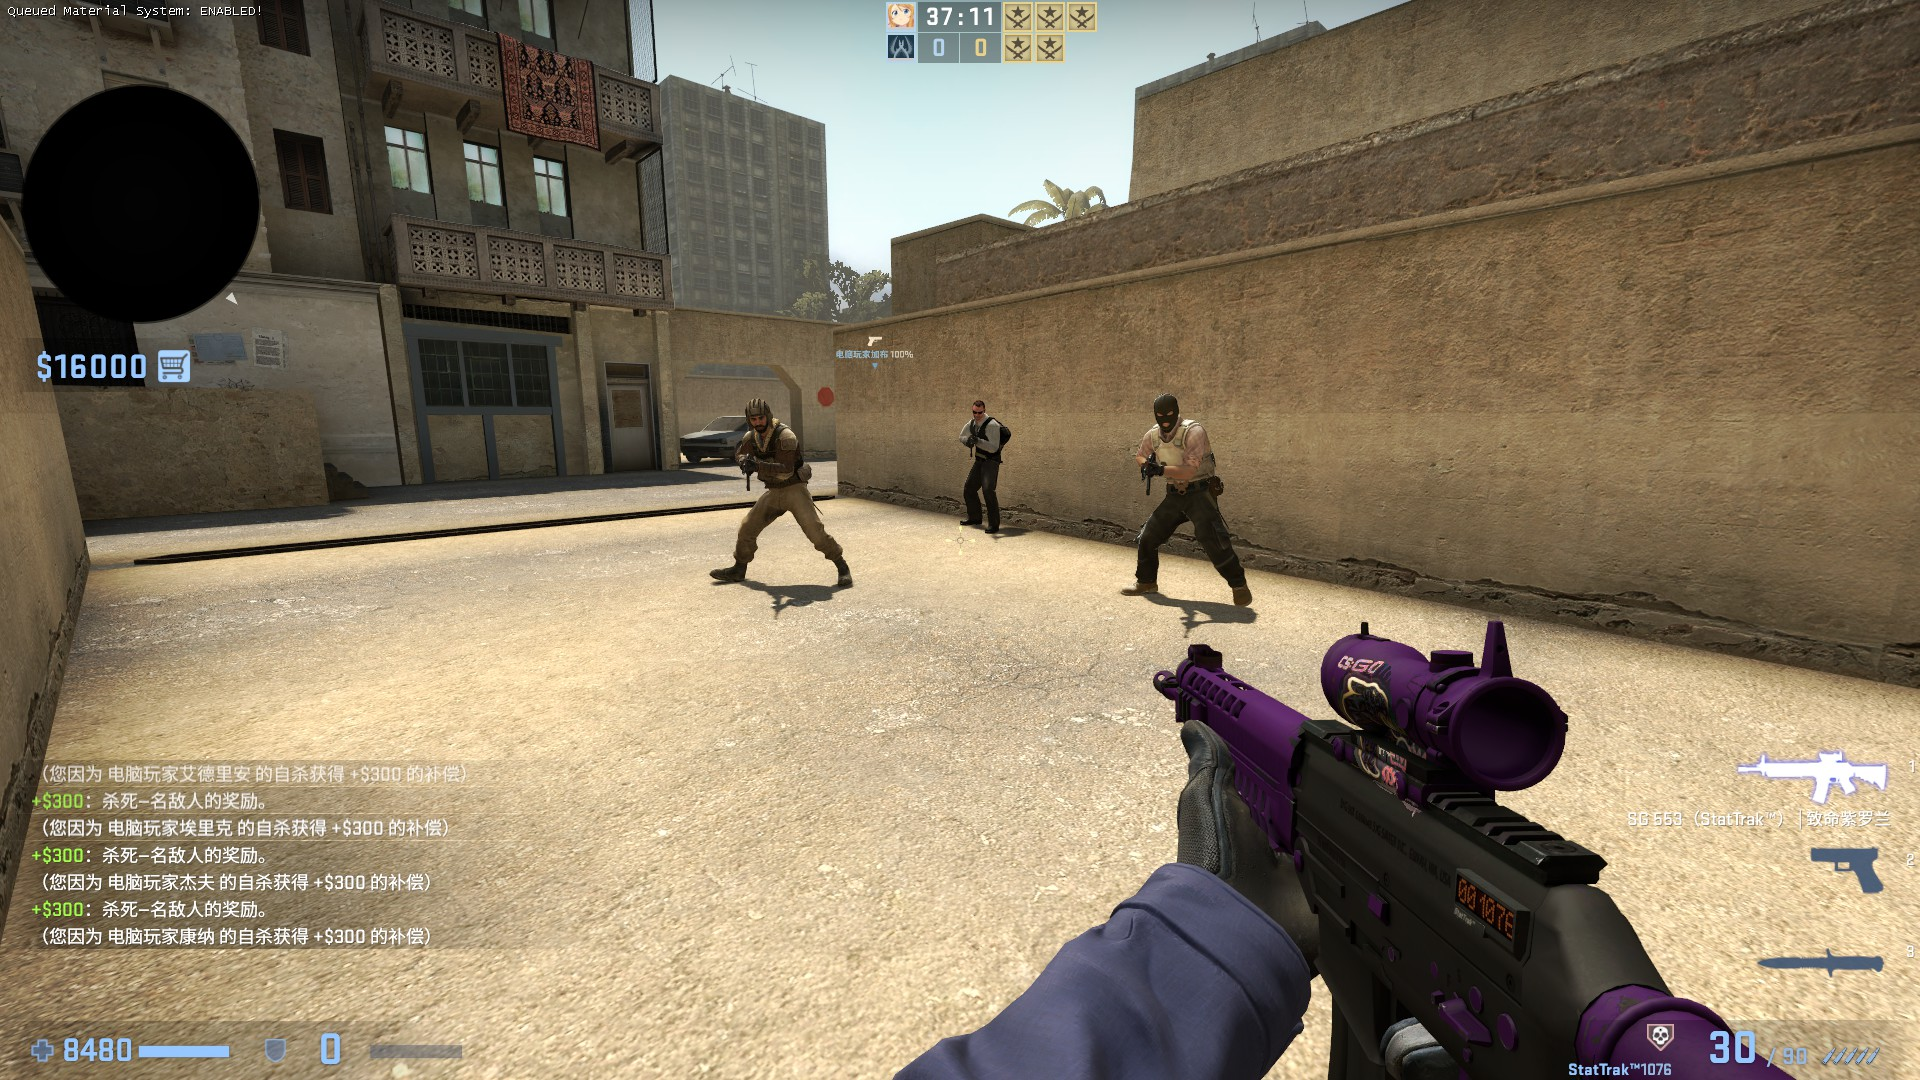head: (1151, 390, 1179, 437), (740, 396, 770, 432), (968, 398, 985, 420)
